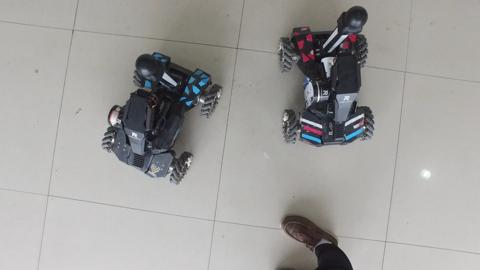chariot: (93, 49, 229, 192), (276, 5, 385, 154)
